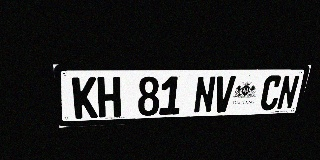1: (159, 76, 182, 115)
8: (138, 76, 160, 116)
C: (259, 75, 283, 111)
H: (97, 77, 121, 118)
K: (72, 77, 98, 119)
N: (193, 76, 216, 114), (276, 75, 300, 110)
V: (212, 76, 236, 113)
